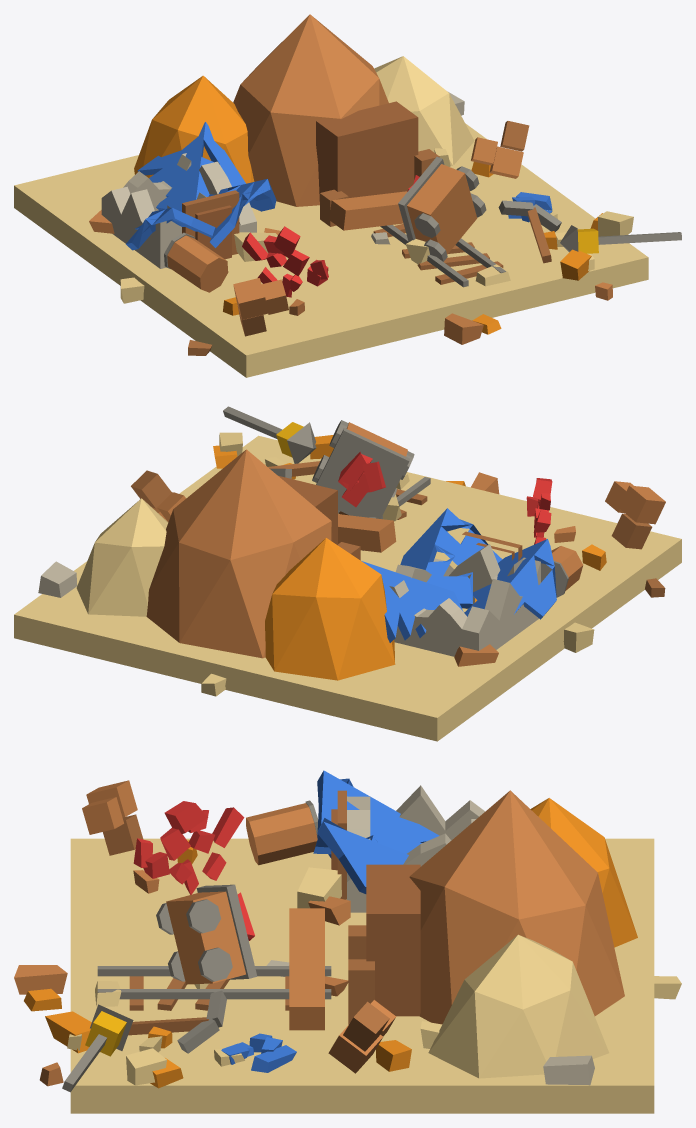
Rendered from mine_t2_v2_dmg2.glb.
3 renders of one model, top to bottom at view 1: azimuth 30°, elevation 25°; view 2: azimuth 150°, elevation 25°; view 3: azimuth 270°, elevation 25°, orthographic. The views are drawn at different scales.
Visible parts, largest first — view 1: mine_t2_v2_dmg2; view 2: mine_t2_v2_dmg2; view 3: mine_t2_v2_dmg2.
Boxes of the visible parts, x1,y1,x2,y2 form: mine_t2_v2_dmg2: (14,14,681,377); mine_t2_v2_dmg2: (14,406,681,741); mine_t2_v2_dmg2: (14,770,681,1113).
Bounding box in the file's own units: 0.8507 × 0.3163 × 0.8582.
Materials: 1 (1 with a texture image).
